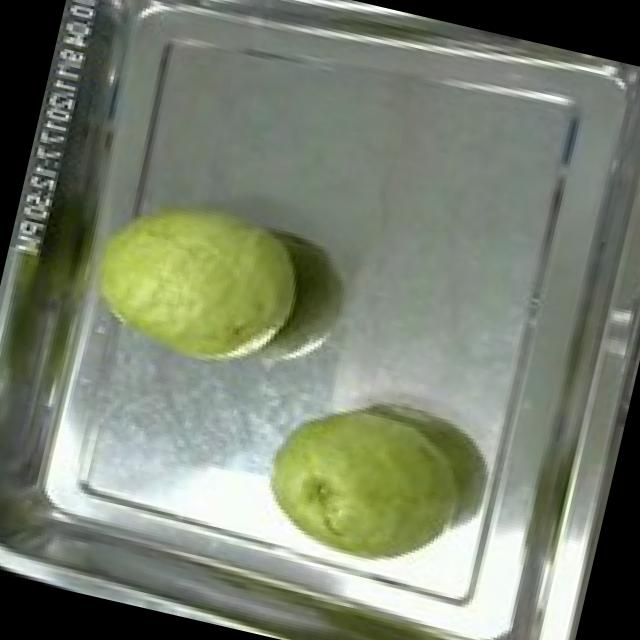Fruit: (242, 374, 497, 607), (72, 167, 324, 390)
